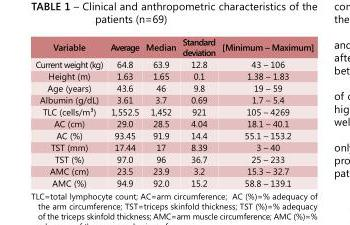table: (34, 34, 313, 187)
table column: (218, 34, 313, 187), (34, 34, 106, 187), (178, 34, 218, 187), (141, 34, 178, 187), (106, 34, 141, 187)
table row: (34, 34, 313, 57), (34, 57, 313, 69), (34, 69, 313, 81), (34, 92, 313, 104), (34, 104, 313, 116), (34, 116, 313, 128), (34, 128, 313, 140), (34, 140, 313, 152), (34, 152, 313, 164), (34, 164, 313, 176), (34, 81, 313, 92), (34, 176, 313, 187)
